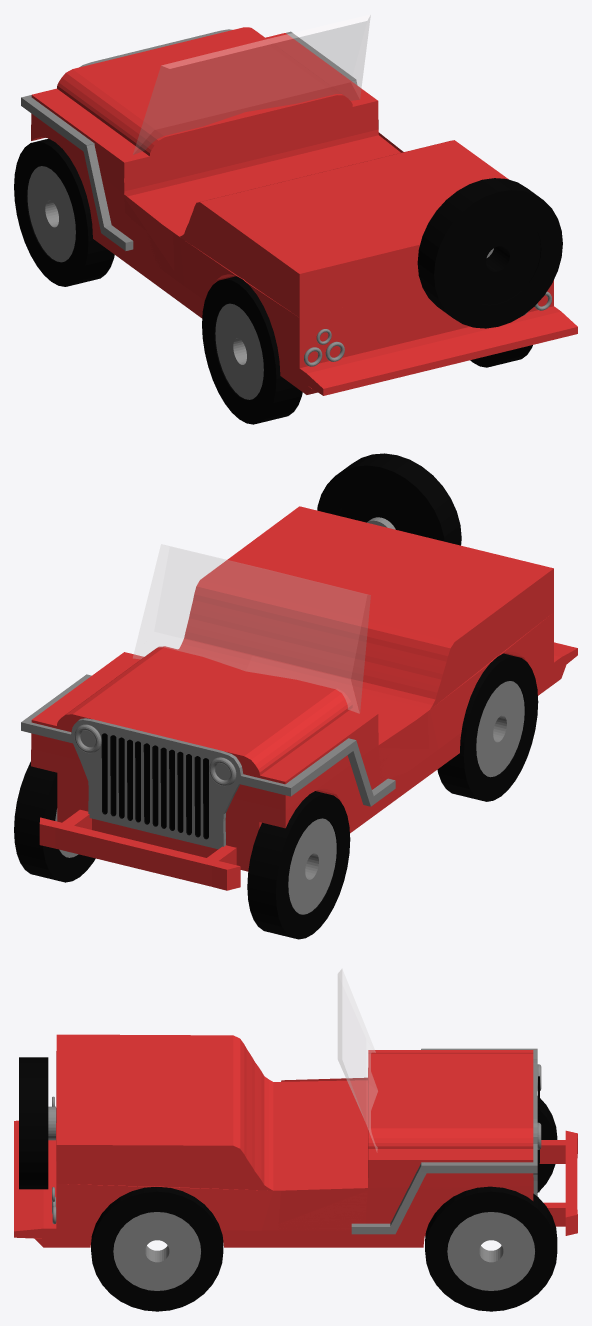
File: jeepambox.fbx
The picture shows the model from 3 angles, top to bottom: view 1: azimuth 30°, elevation 25°; view 2: azimuth 150°, elevation 25°; view 3: azimuth 270°, elevation 25°; orthographic projection. The views are drawn at different scales.
Parts seen in each view (by area): view 1: coche, llantas, refa, parrilla, luces; view 2: coche, llantas, parrilla, refa; view 3: coche, llantas, refa, parrilla.
Boxes of the visible parts, <box> form: coche: <box>31,14,577,395</box>; llantas: <box>14,138,532,424</box>; refa: <box>417,178,562,328</box>; parrilla: <box>21,29,357,250</box>; luces: <box>304,291,551,366</box>; coche: <box>31,506,577,890</box>; llantas: <box>14,653,538,939</box>; parrilla: <box>21,674,395,849</box>; refa: <box>317,453,461,545</box>; coche: <box>14,969,577,1247</box>; llantas: <box>91,1096,557,1311</box>; refa: <box>19,1057,55,1189</box>; parrilla: <box>351,1048,541,1234</box>.
Bounding box in the file's own units: 80.67 × 77.64 × 164.
